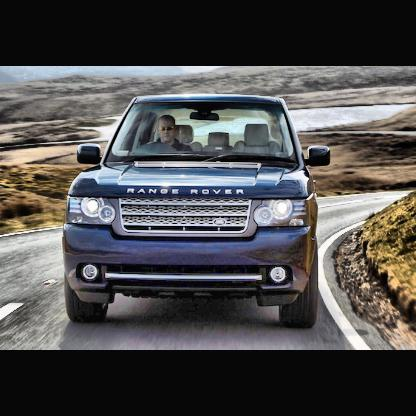Land Rover Range Rover SUV 2012: (60, 91, 333, 331)
